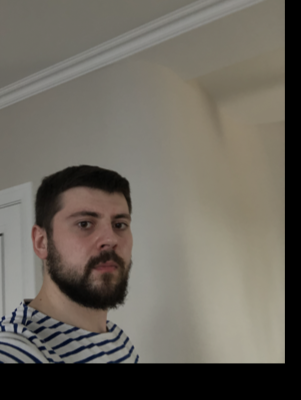without_mask: (59, 199, 132, 312)
